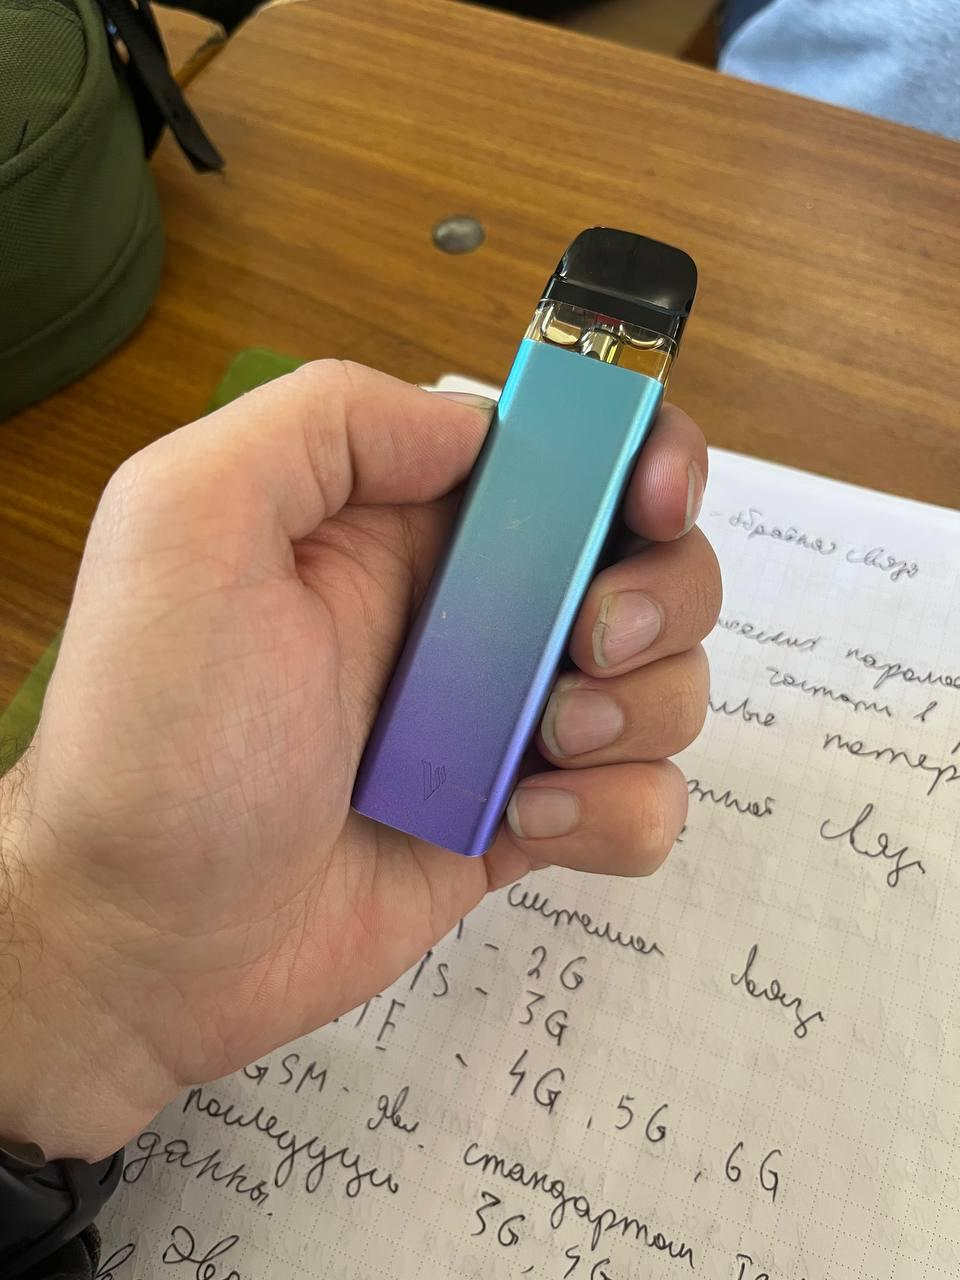Vape: (352, 227, 696, 855)
